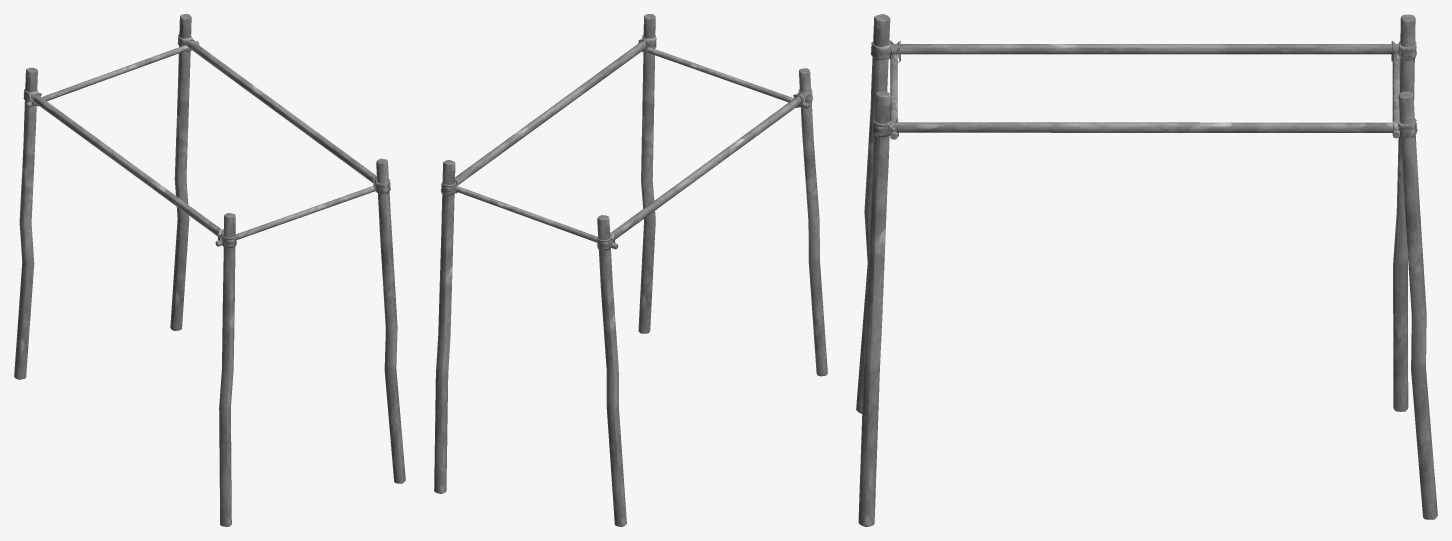
File: SM_WoodStructure_01a.fbx
3 views of the same model, side by side, from view 1: azimuth 30°, elevation 25°; view 2: azimuth 150°, elevation 25°; view 3: azimuth 270°, elevation 25° (orthographic). The views are drawn at different scales.
Parts seen in each view (by area): view 1: SM_WoodStructure_01a_LOD0; view 2: SM_WoodStructure_01a_LOD0; view 3: SM_WoodStructure_01a_LOD0.
Part boxes in pixels (x1,y1,x2,y2): SM_WoodStructure_01a_LOD0: (14,14,405,526); SM_WoodStructure_01a_LOD0: (434,14,827,526); SM_WoodStructure_01a_LOD0: (856,14,1437,526).
Size of the model in its own units: 176 by 355 by 285.
